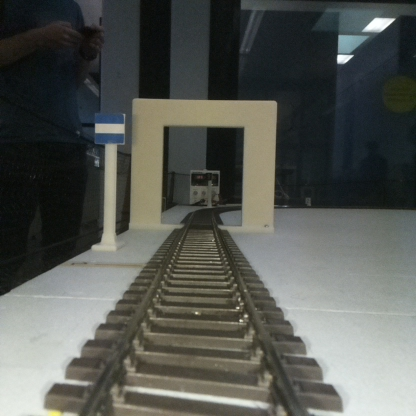start: (95, 114, 123, 248)
